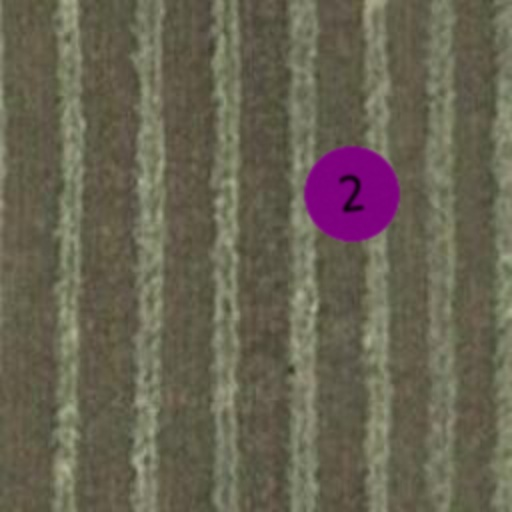circle: (298, 140, 406, 248)
